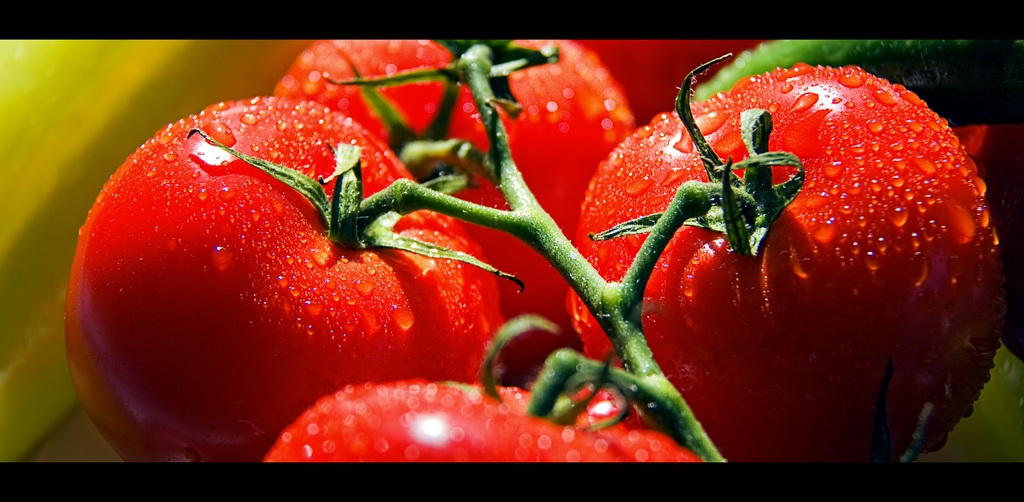Tomato: (565, 51, 1013, 463), (67, 91, 510, 475), (271, 33, 637, 346), (256, 316, 700, 467)
